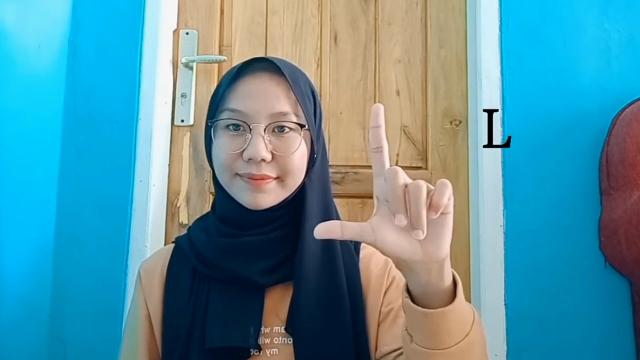L: (312, 102, 456, 278)
